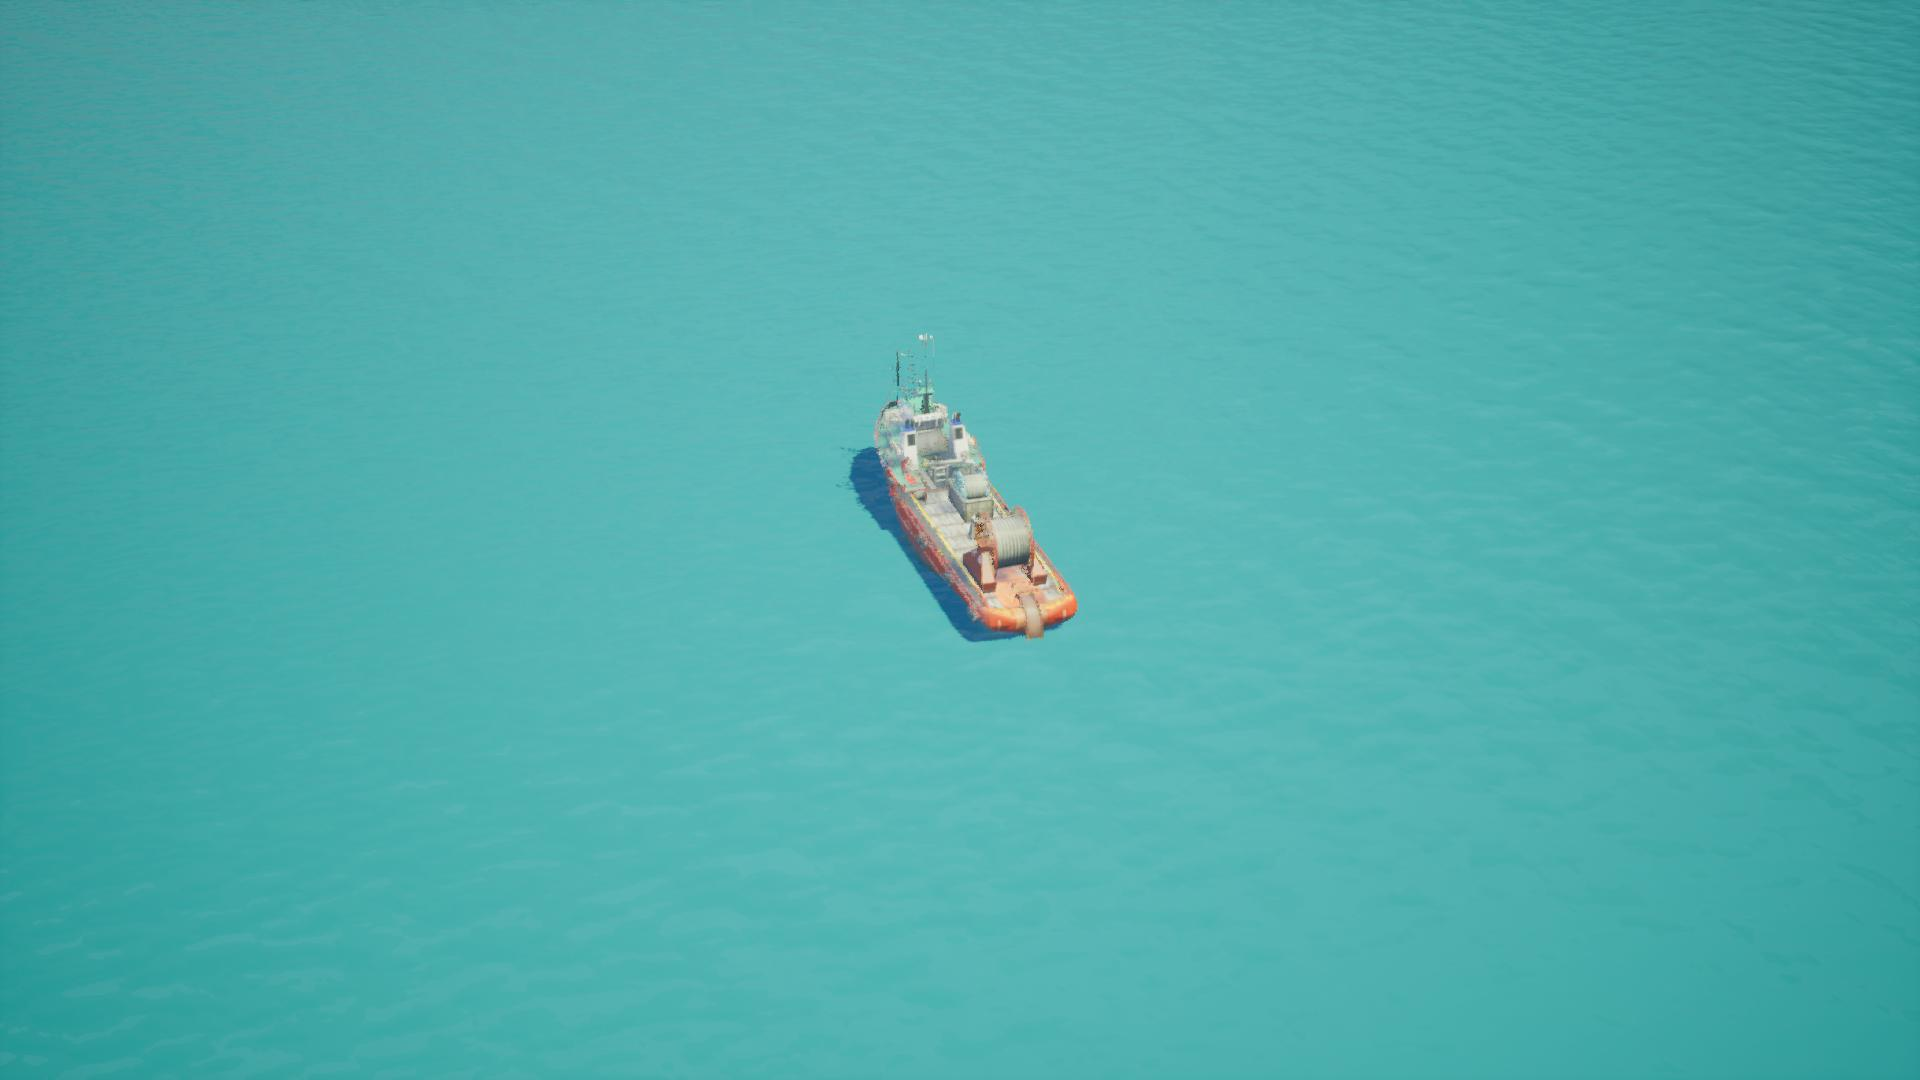Tug Boat: (819, 284, 1098, 682)
